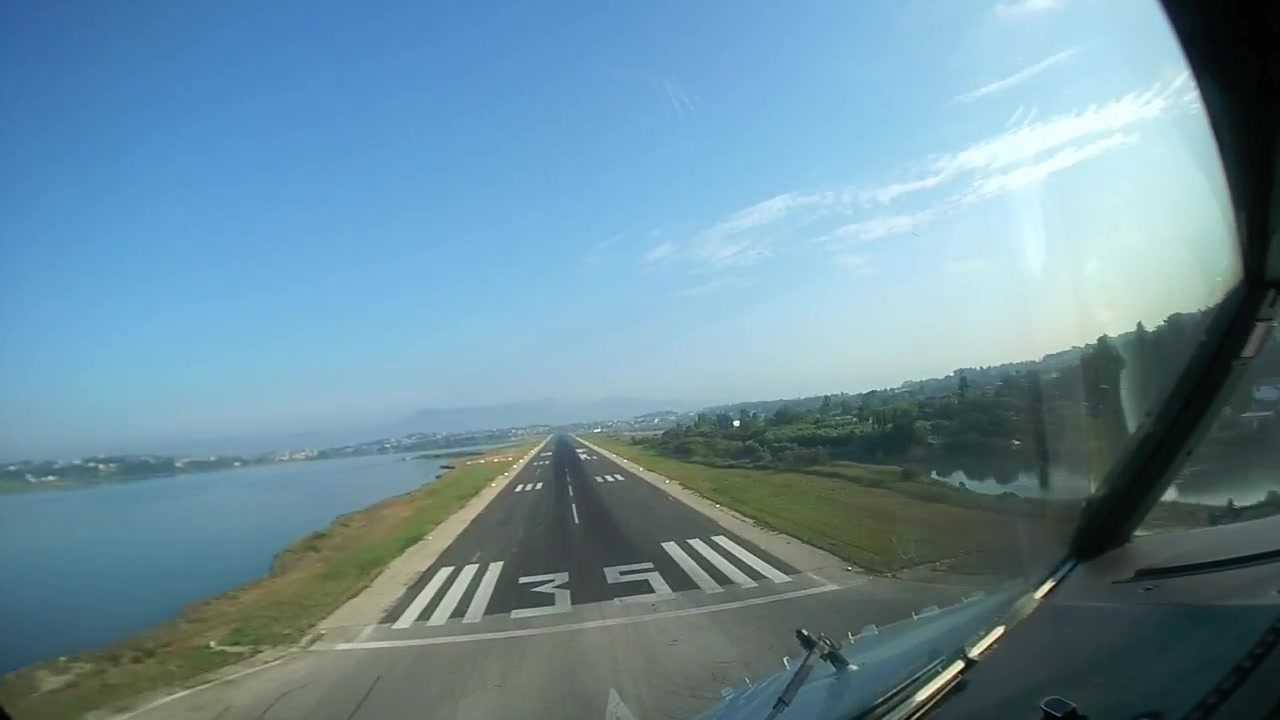entrance: (392, 533, 786, 631)
runway: (349, 433, 847, 651)
